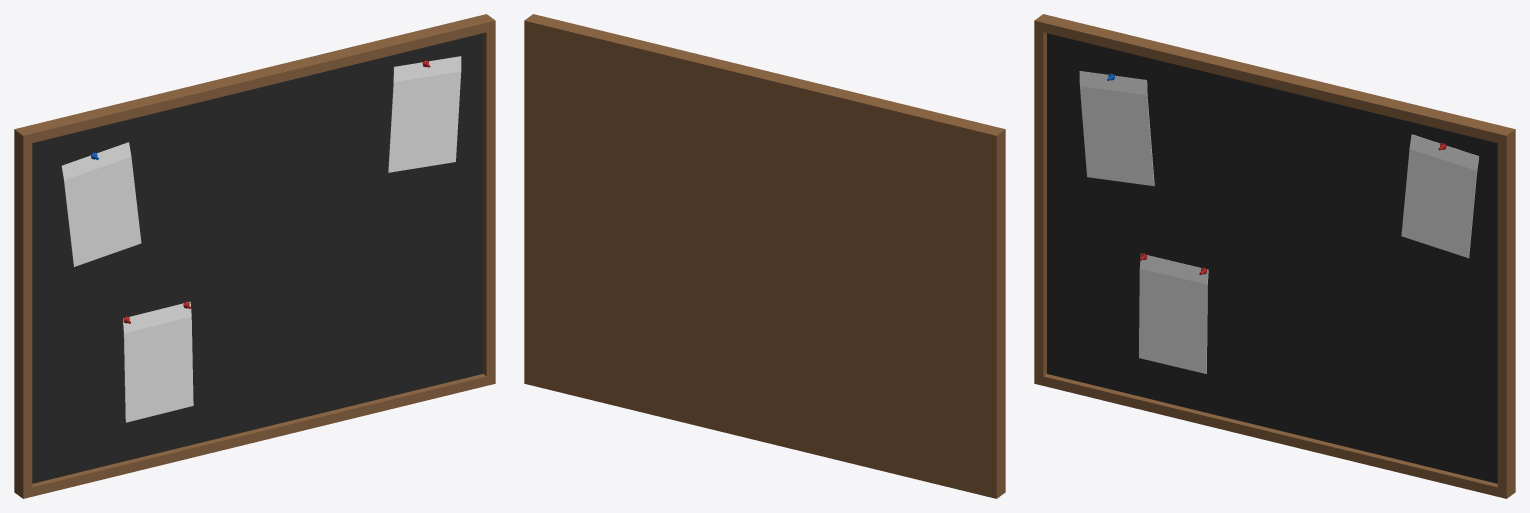
Rendered from BoardV1.fbx.
The picture shows the model from 3 angles, left to right: view 1: azimuth 30°, elevation 25°; view 2: azimuth 150°, elevation 25°; view 3: azimuth 330°, elevation 25°; orthographic projection.
Visible parts, largest first — view 1: BoardV1; view 2: BoardV1; view 3: BoardV1.
Boxes of the visible parts, x1,y1,x2,y2 form: BoardV1: [14, 14, 495, 498]; BoardV1: [524, 14, 1005, 498]; BoardV1: [1034, 14, 1515, 498].
Bounding box in the file's own units: 118 × 86.44 × 4.03.
